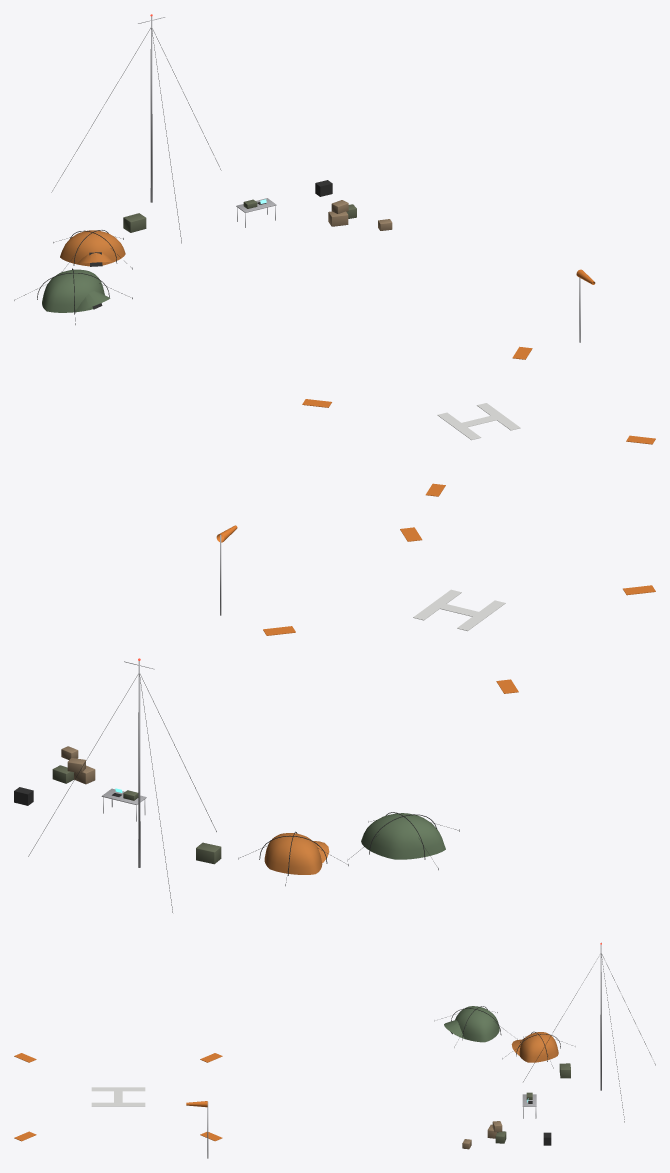
The model's file is camp.glb.
3 renders of one model, top to bottom at view 1: azimuth 30°, elevation 25°; view 2: azimuth 150°, elevation 25°; view 3: azimuth 270°, elevation 25°, orthographic. The views are drawn at different scales.
Visible parts, largest first — view 1: camp; view 2: camp; view 3: camp.
Boxes of the visible parts, bbox=[...] form: camp: bbox=[14, 14, 655, 496]; camp: bbox=[14, 525, 655, 912]; camp: bbox=[14, 942, 655, 1158].
Size of the model in its own units: 19.49 by 9.15 by 35.9.
